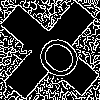O: (25, 25, 86, 85)
